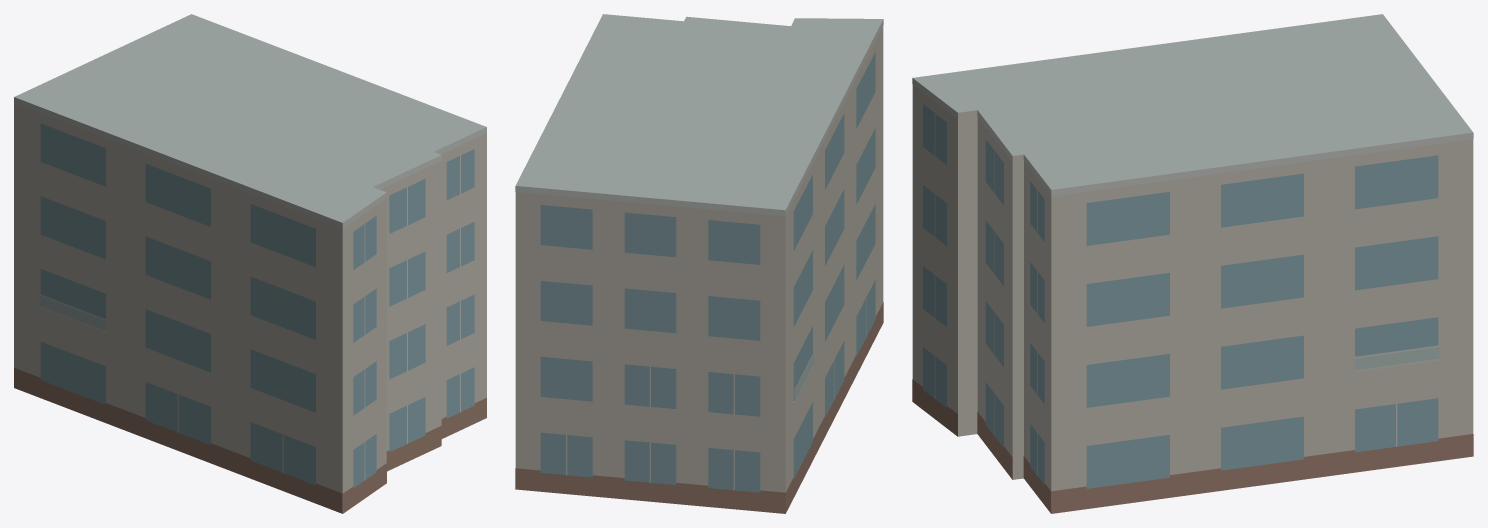
The model's file is survey-upis-32822793.glb.
3 renders of one model, left to right at view 1: azimuth 30°, elevation 25°; view 2: azimuth 150°, elevation 25°; view 3: azimuth 270°, elevation 25°, orthographic. The views are drawn at different scales.
Visible parts, largest first — view 1: survey-upis-32822793.tmp; view 2: survey-upis-32822793.tmp; view 3: survey-upis-32822793.tmp.
Boxes of the visible parts, <box> form: survey-upis-32822793.tmp: <box>14,14,486,513</box>; survey-upis-32822793.tmp: <box>515,14,883,513</box>; survey-upis-32822793.tmp: <box>912,14,1473,513</box>.
Bounding box in the file's own units: 14.22 × 12.2 × 19.16.
